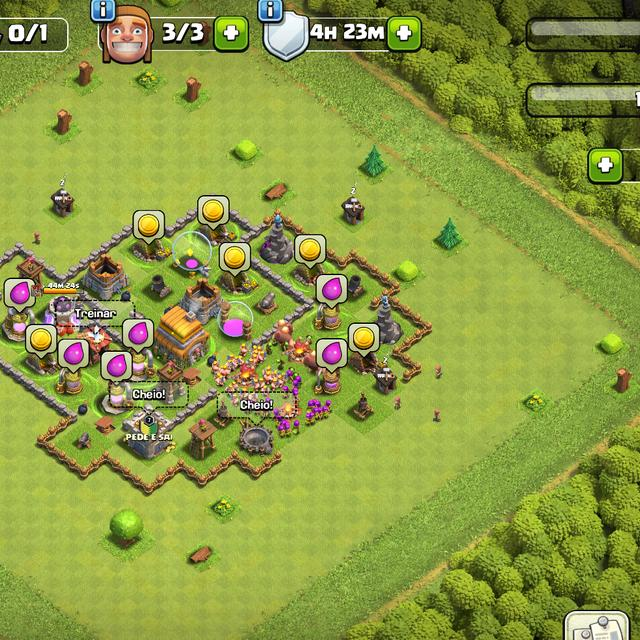Elixir: (314, 274, 348, 310), (122, 318, 155, 355), (315, 337, 347, 375), (4, 277, 36, 314), (57, 340, 90, 374), (101, 350, 132, 386)
coin: (130, 210, 166, 245), (197, 194, 230, 231), (26, 322, 57, 360), (219, 242, 252, 277), (348, 322, 380, 358), (294, 234, 326, 269)
